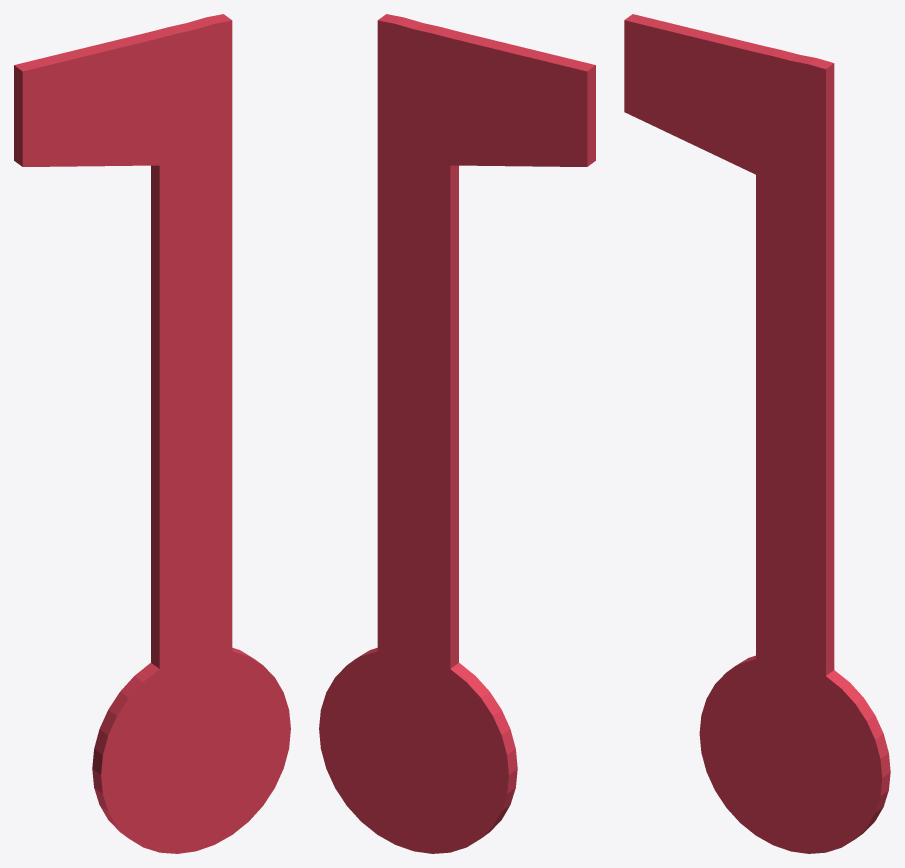
File: antenna.fbx
The picture shows the model from 3 angles, left to right: view 1: azimuth 30°, elevation 25°; view 2: azimuth 150°, elevation 25°; view 3: azimuth 330°, elevation 25°; orthographic projection. The views are drawn at different scales.
Visible parts, largest first — view 1: Cylinder.001; view 2: Cylinder.001; view 3: Cylinder.001.
Boxes of the visible parts, <box> form: Cylinder.001: <box>14,14,290,853</box>; Cylinder.001: <box>319,14,595,853</box>; Cylinder.001: <box>624,14,890,853</box>.
Size of the model in its own units: 0.7291 by 2.14 by 0.0414.
